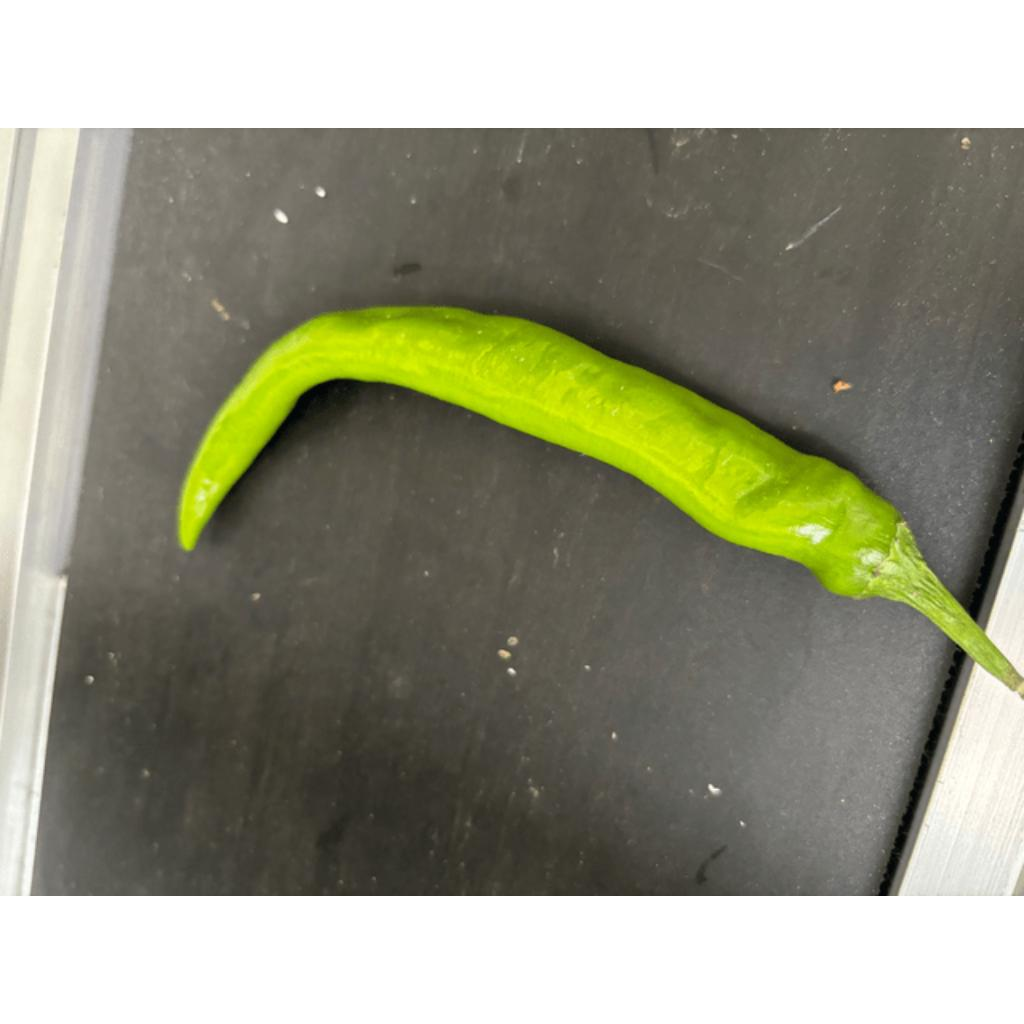chili: (174, 304, 922, 598)
